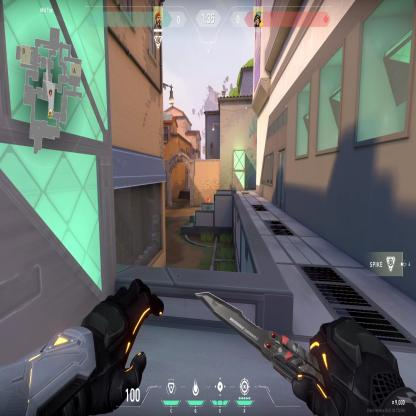enemy: (206, 194, 210, 203)
